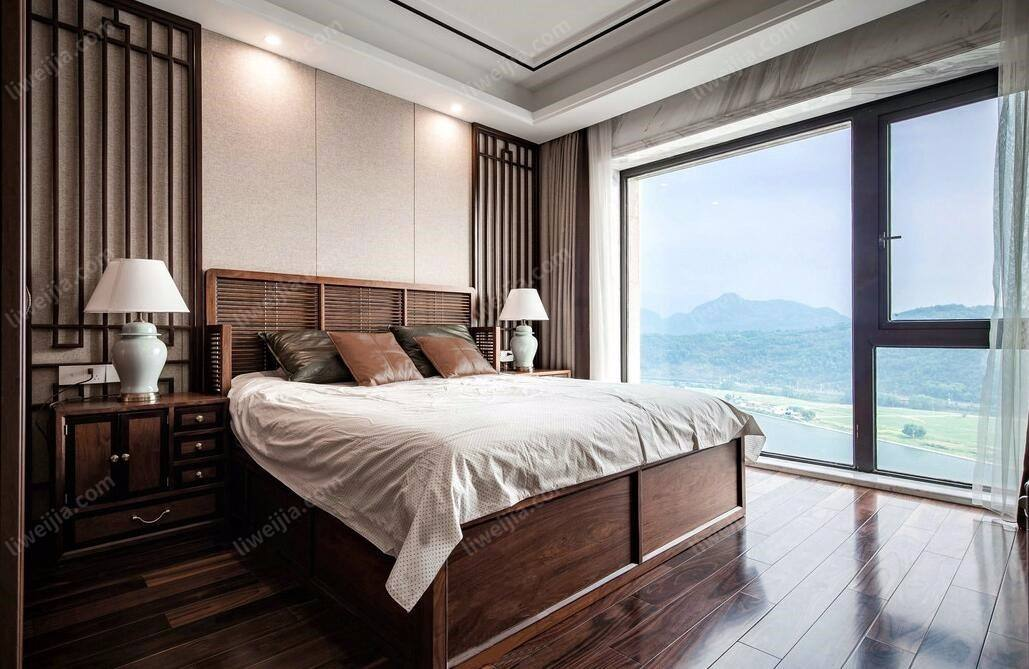床: (232, 371, 756, 605)
枕头: (257, 319, 492, 387)
灯: (84, 251, 182, 401), (494, 283, 552, 371)
